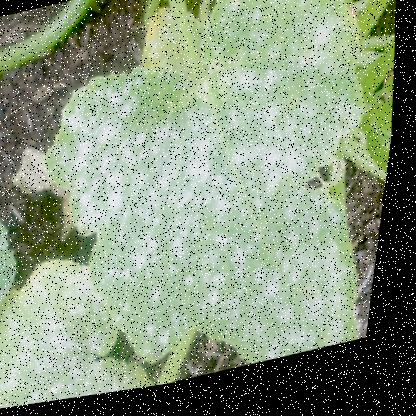PowderyMildew: (110, 126, 324, 328), (207, 21, 348, 183), (234, 229, 361, 367), (77, 100, 206, 235), (0, 288, 107, 404)
